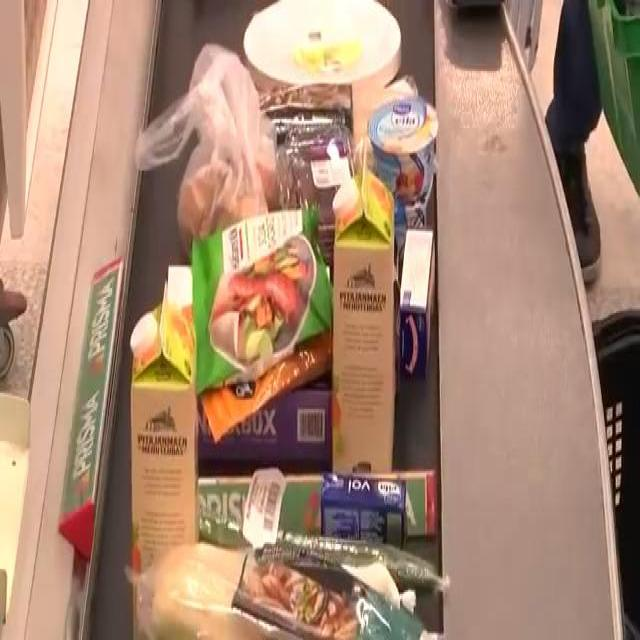beverage: (129, 300, 201, 640), (337, 158, 392, 482)
food-box: (126, 562, 454, 640), (376, 91, 436, 185), (403, 222, 438, 375), (389, 178, 437, 245)
fruit: (282, 126, 366, 233)
utility-box: (250, 1, 402, 93), (324, 483, 410, 550)
vegetable: (195, 206, 326, 404), (175, 119, 274, 254)
